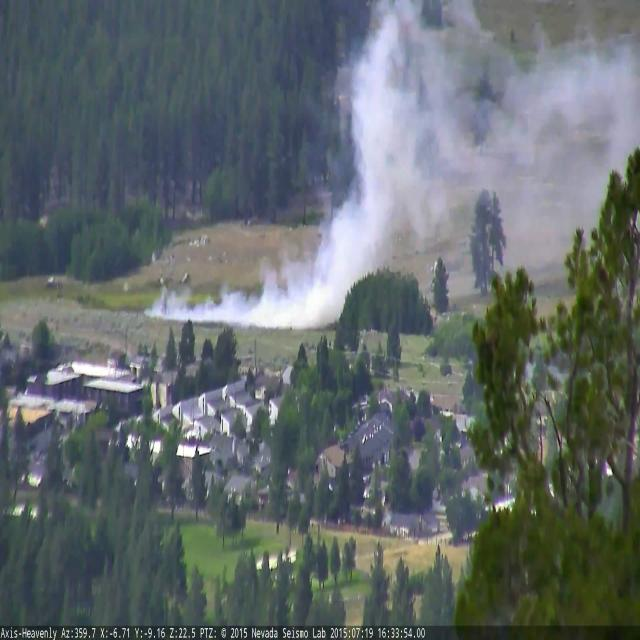smoke: (147, 0, 639, 322)
